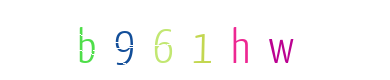1: (155, 0, 235, 80)
6: (125, 0, 205, 80)
9: (85, 0, 165, 80)
B: (45, 0, 125, 80)
H: (184, 0, 264, 80)
W: (222, 0, 302, 80)
